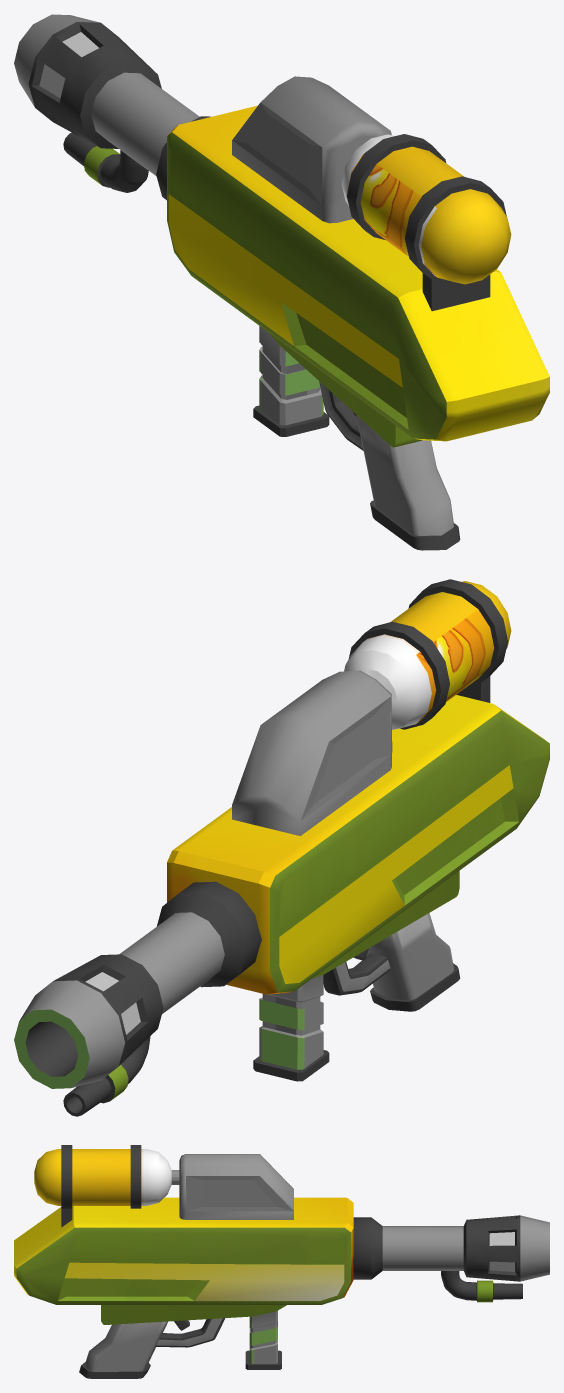
File: fire_gun.fbx
The picture shows the model from 3 angles, top to bottom: view 1: azimuth 30°, elevation 25°; view 2: azimuth 150°, elevation 25°; view 3: azimuth 270°, elevation 25°; orthographic projection. The views are drawn at different scales.
Visible parts, largest first — view 1: fire_gun; view 2: fire_gun; view 3: fire_gun.
Boxes of the visible parts, left/top/right/bottom form: fire_gun: left=14, top=14, right=549, bottom=550; fire_gun: left=14, top=579, right=549, bottom=1116; fire_gun: left=14, top=1145, right=549, bottom=1378.
Size of the model in its own units: 1.1 by 3.56 by 7.71.
